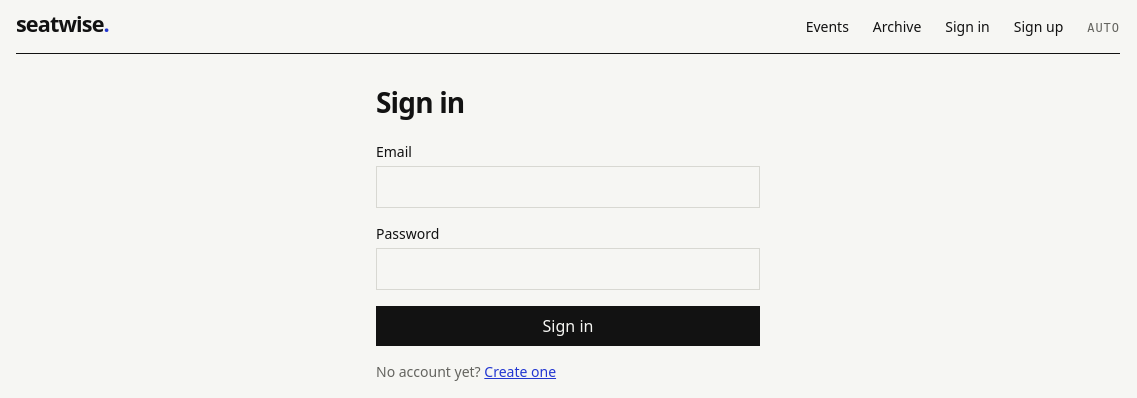
Test: admin users page: access › sends a guest to sign in, then back to the page
Step 1. Type "admin@example.com" into the field labelled "Email" → (568, 188), box [376,166,760,208]
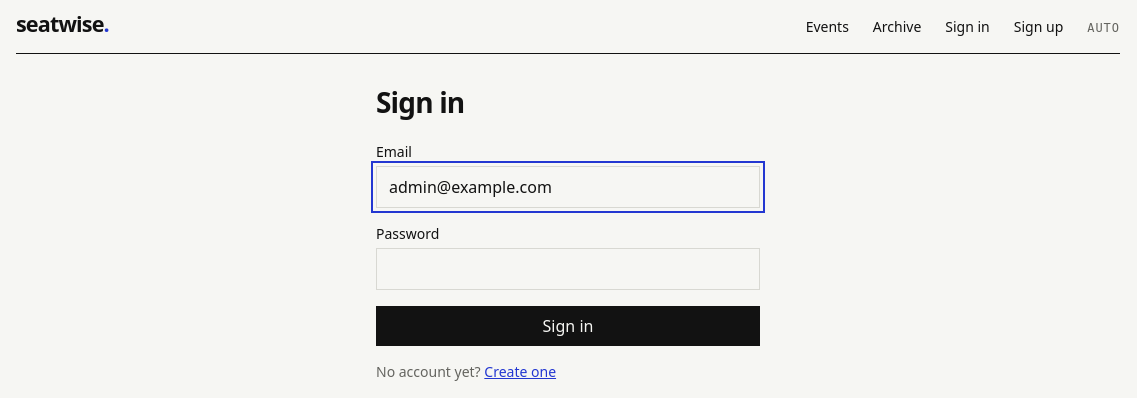
Step 2. Type "long-enough-password" into the password field labelled "Password" → (568, 270), box [376,248,760,290]
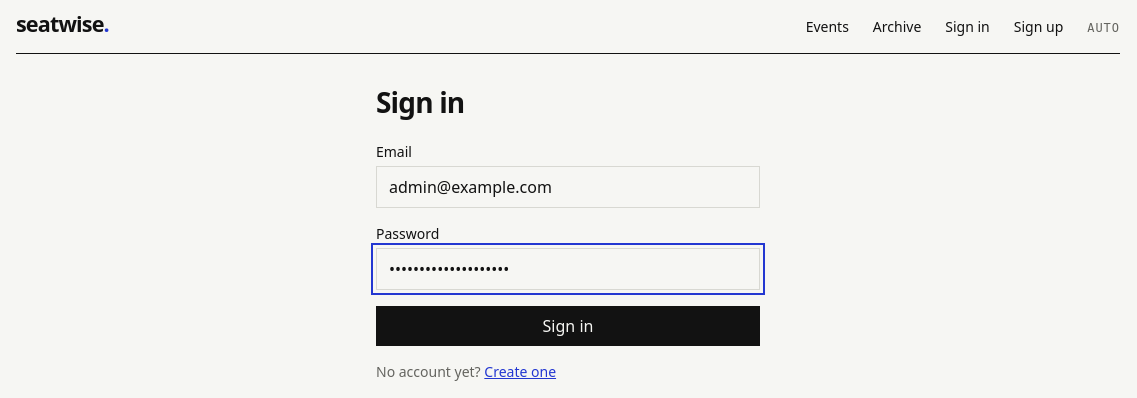
Step 3. Click the button "Sign in" → (568, 326), box [376,306,760,346]
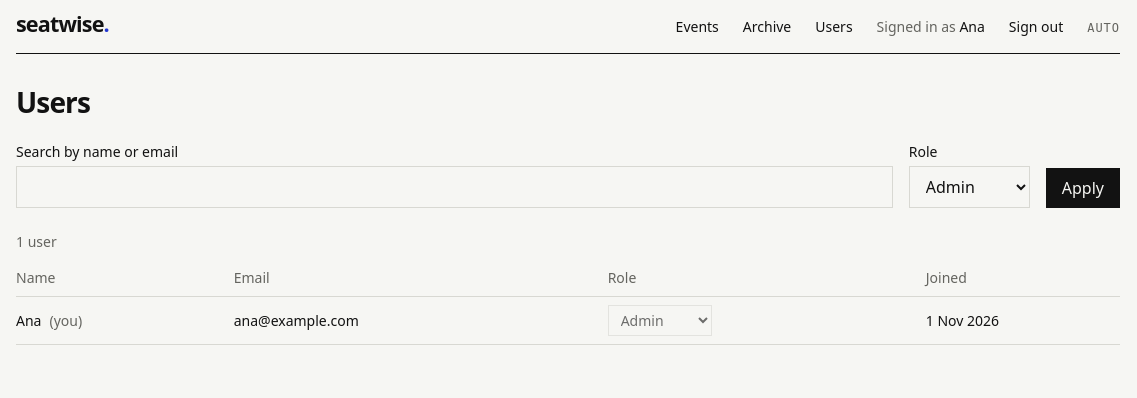
Check: the heading "Users" is shown, box [16,83,90,121]
